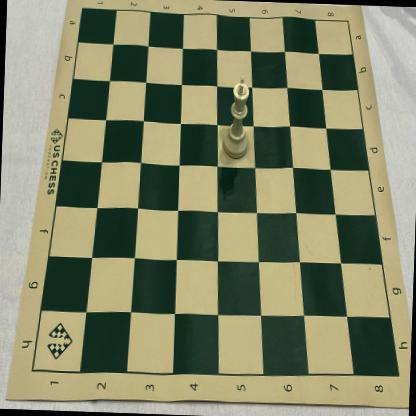king: (222, 75, 252, 160)
